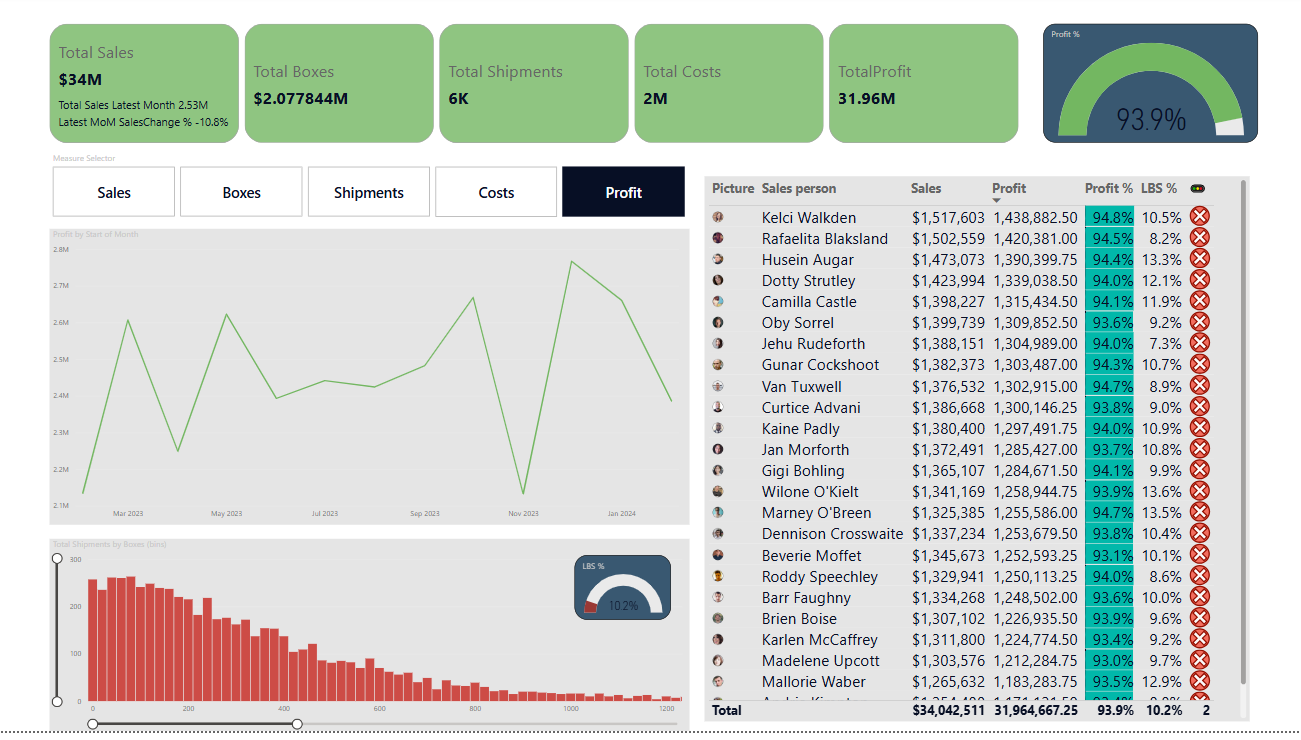

The dashboard page shown, as its layout file describes it:
{"tool":"powerbi","page":{"name":"Page 3","canvas":[1920,1080],"ordinal":2},"visuals":[{"type":"cardVisual","fields":{"Data":["_Measures.Total Sales","_Measures.Total Boxes","_Measures.Total Shipments","_Measures.Total Costs","_Measures.TotalProfit"]},"box":[71.5,29.3,1452.7,201.8],"z":0},{"type":"gauge","fields":{"Y":["_Measures.Profit %"]},"box":[1542.6,42.2,315.5,174.3],"z":1000},{"type":"lineChart","fields":{"Y":["_Measures.TotalProfit"],"Category":["calendar.Start of Month"]},"box":[84.4,343,939.1,434.7],"z":2000},{"type":"advancedSlicerVisual","fields":{"Values":["Measure Selector.Measure Selector"]},"box":[84.4,231.1,939.1,99],"z":3000},{"type":"columnChart","fields":{"Category":["shipments.Boxes (bins)"],"Y":["_Measures.Total Shipments"]},"box":[84.4,797.9,939.1,282.5],"z":4000},{"type":"gauge","fields":{"Y":["_Measures.LBS %"]},"box":[854.8,821.7,141.2,95.4],"z":5000},{"type":"tableEx","fields":{"Values":["people.Picture","people.Sales person","_Measures.Total Sales","_Measures.TotalProfit","_Measures.Profit %","_Measures.LBS %","_Measures.Profit Target Indicator"]},"box":[1045.5,266,800,800],"z":6000}]}

Visuals, with their boxes in screenshot pixels (x1, y1, x2, y2), scaled from the page's 1920x1080 canvas onto the 1301x740 screenshot:
cardVisual - _Measures.Total Sales x _Measures.Total Boxes: {"x1": 48, "y1": 20, "x2": 1033, "y2": 158}
gauge - _Measures.Profit %: {"x1": 1045, "y1": 29, "x2": 1259, "y2": 148}
lineChart - _Measures.TotalProfit x calendar.Start of Month: {"x1": 57, "y1": 235, "x2": 694, "y2": 533}
advancedSlicerVisual - Measure Selector.Measure Selector: {"x1": 57, "y1": 158, "x2": 694, "y2": 226}
columnChart - shipments.Boxes (bins) x _Measures.Total Shipments: {"x1": 57, "y1": 547, "x2": 694, "y2": 739}
gauge - _Measures.LBS %: {"x1": 579, "y1": 563, "x2": 675, "y2": 628}
tableEx - people.Picture x people.Sales person: {"x1": 708, "y1": 182, "x2": 1251, "y2": 730}
